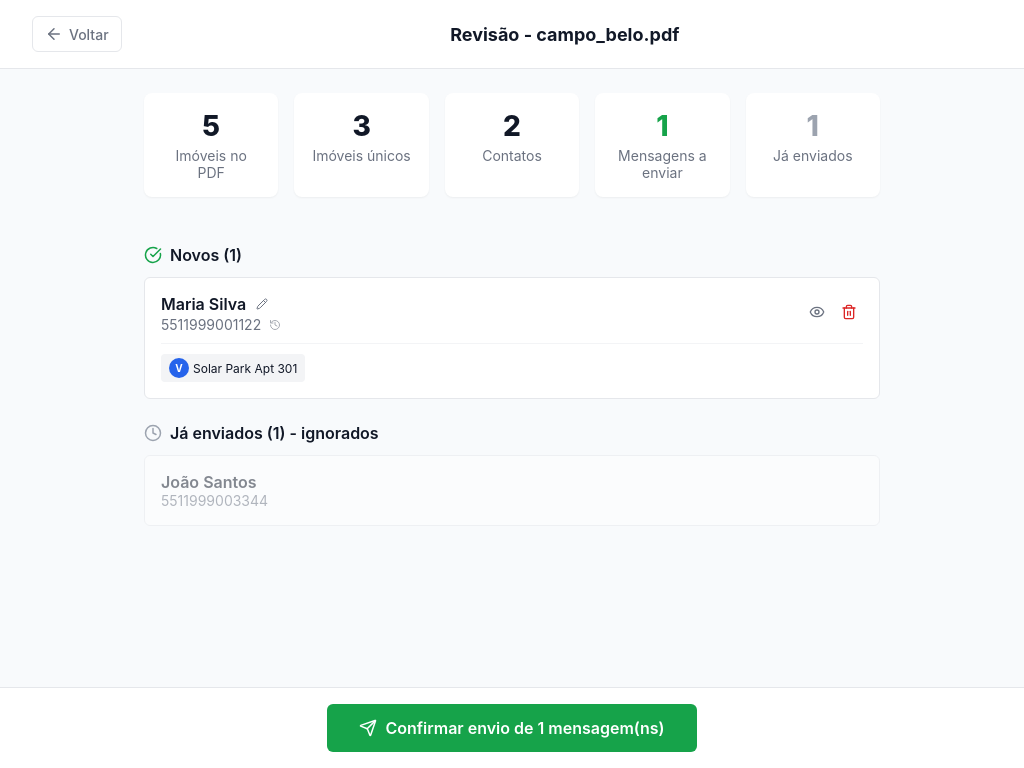
Scenario: Revisao › deve abrir modal de confirmacao ao remover contato
Click the button titled "Remover". click: [849, 314]
box: [835,298,863,329]
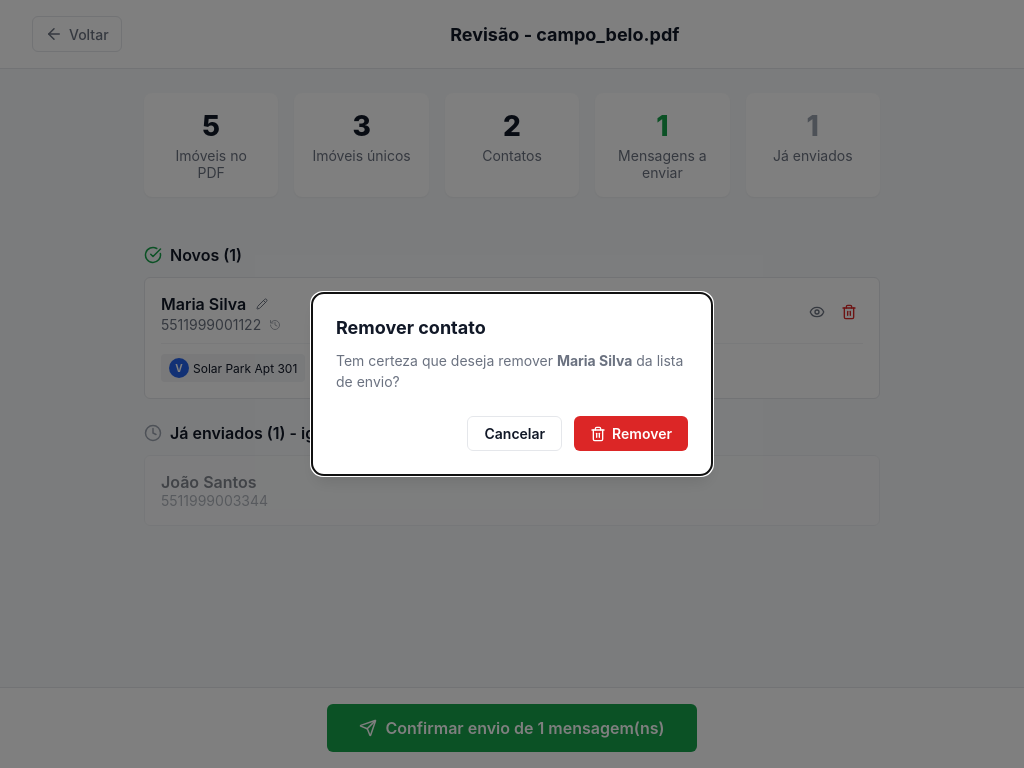
Result: the heading "Remover contato" is shown at [336,317,486,338]
Result: the text "Tem certeza que deseja remover" is shown at [336,352,553,369]
